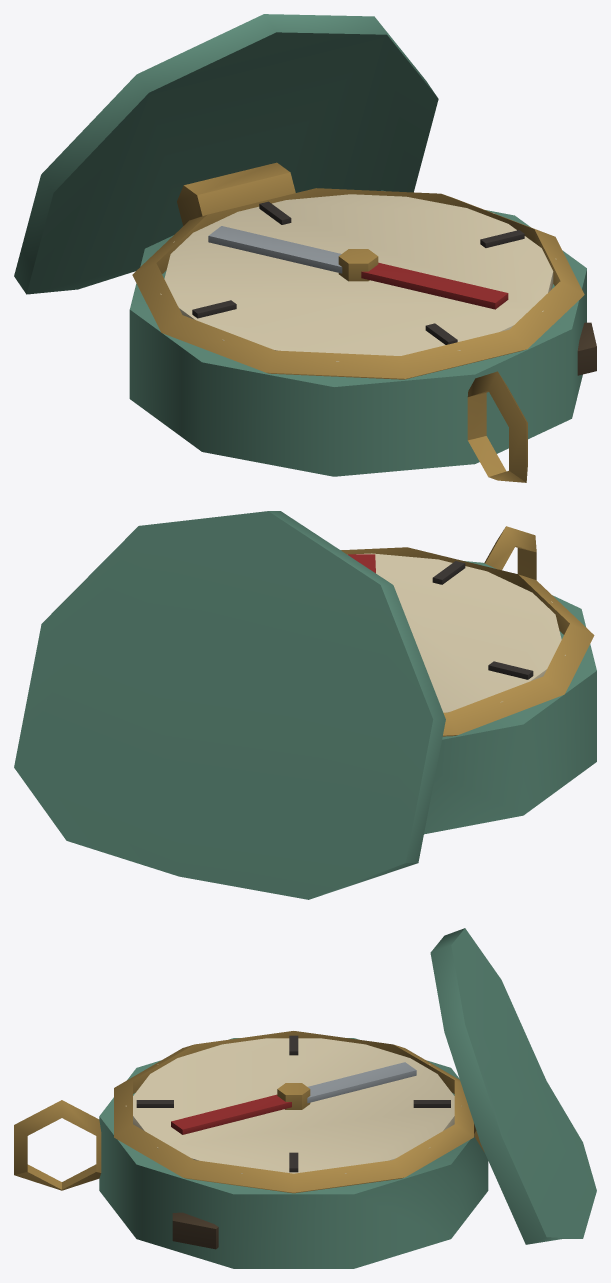
The model's file is curio_sunkenCompass.glb.
The picture shows the model from 3 angles, top to bottom: view 1: azimuth 30°, elevation 25°; view 2: azimuth 150°, elevation 25°; view 3: azimuth 270°, elevation 25°; orthographic projection. The views are drawn at different scales.
Visible parts, largest first — view 1: curio_sunkenCompass; view 2: curio_sunkenCompass; view 3: curio_sunkenCompass.
Part boxes in pixels (x1=…): curio_sunkenCompass: x1=14, y1=14, x2=596, y2=482; curio_sunkenCompass: x1=14, y1=511, x2=596, y2=899; curio_sunkenCompass: x1=14, y1=928, x2=596, y2=1268.
Size of the model in its own units: 0.0506 by 0.0362 by 0.0779.
